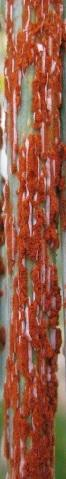Wheat: (6, 0, 58, 479)
